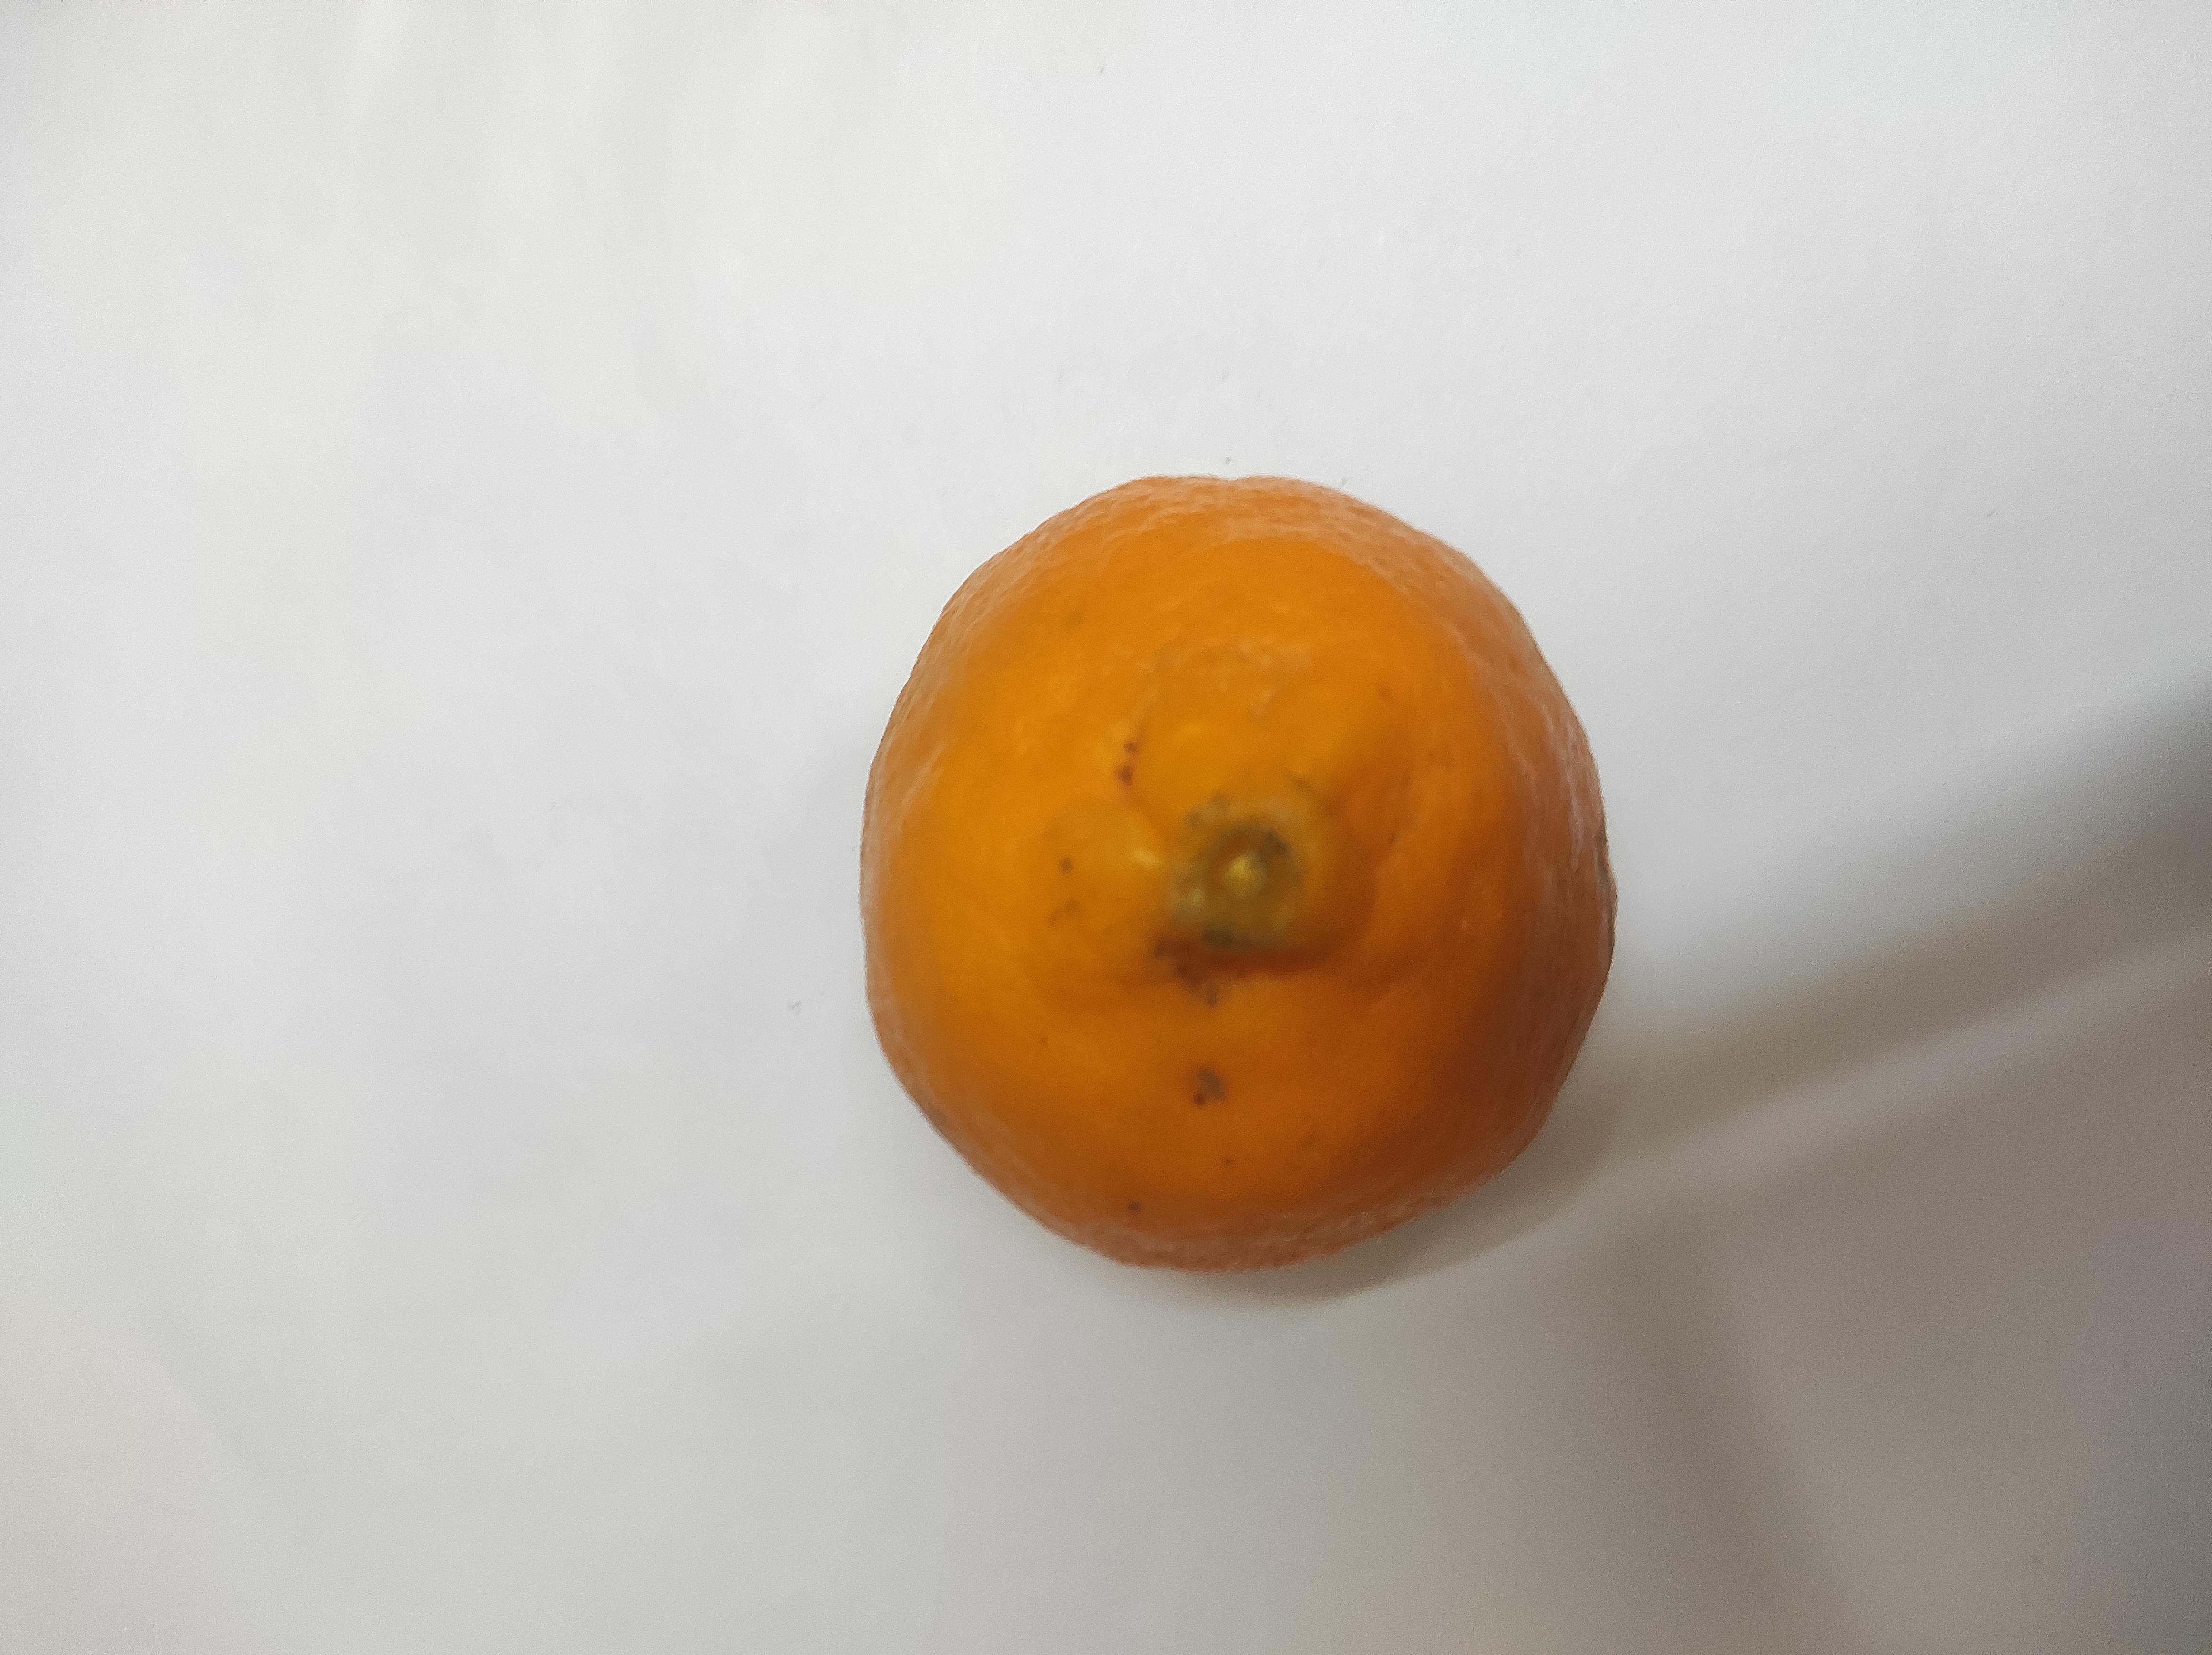Ripe: (854, 471, 1616, 1273)
